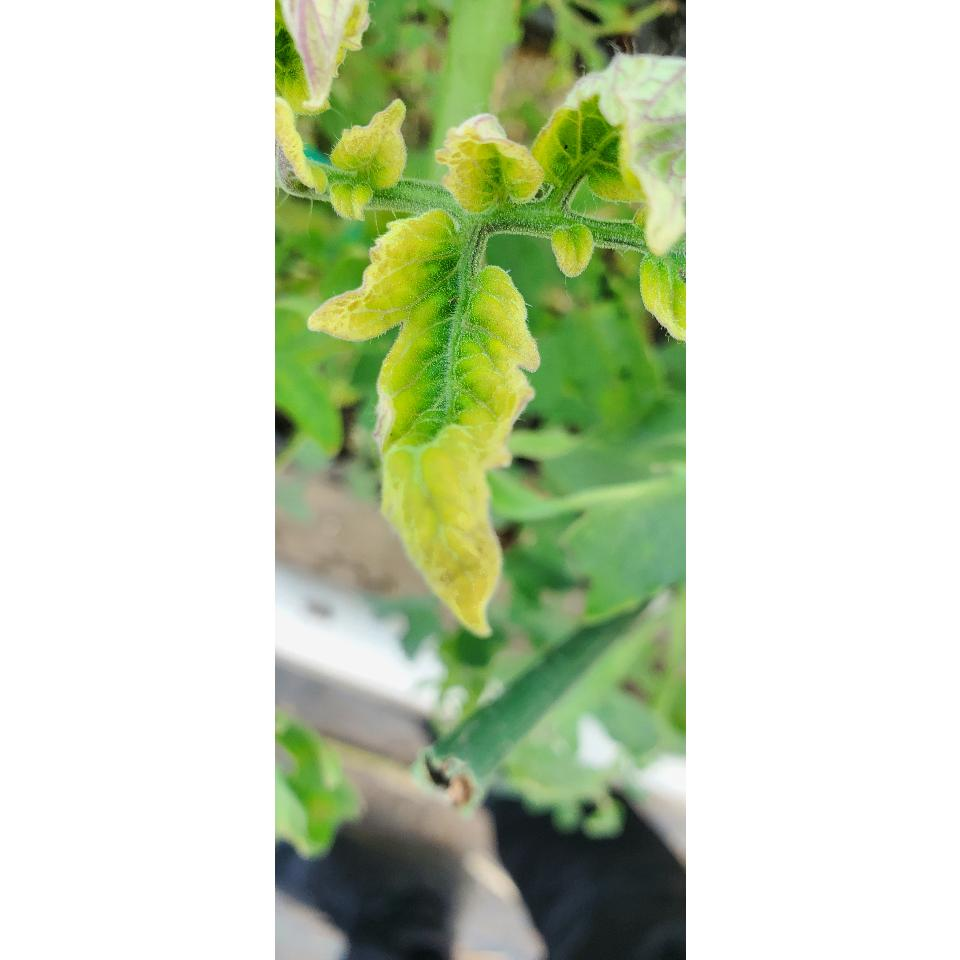tomato_yellow_leaf_curl_virus: (318, 214, 544, 638)
